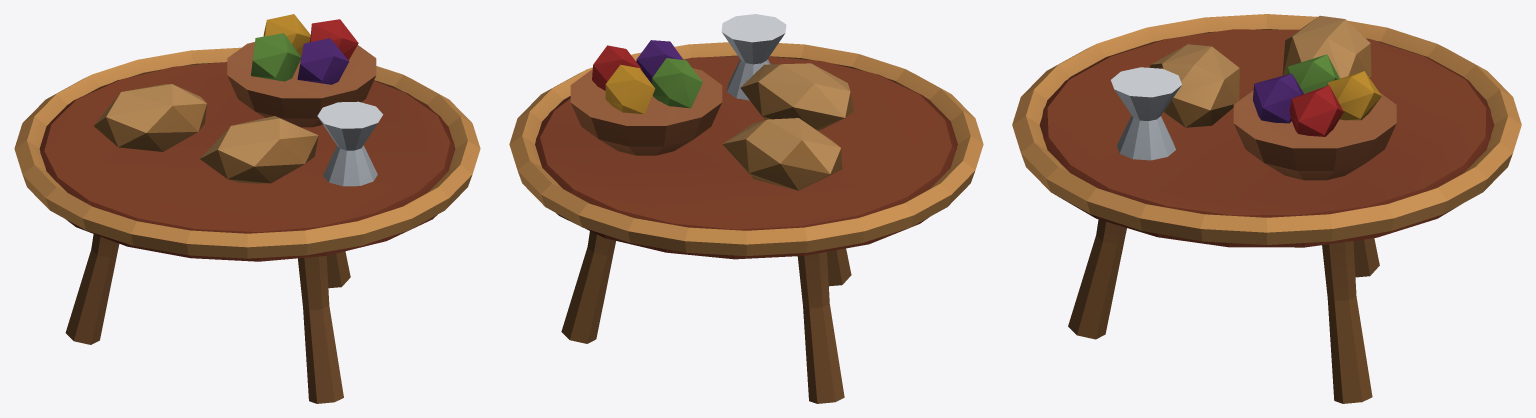
3 renders of one model, left to right at view 1: azimuth 30°, elevation 25°; view 2: azimuth 150°, elevation 25°; view 3: azimuth 270°, elevation 25°, orthographic. The views are drawn at different scales.
Parts seen in each view (by area): view 1: base; view 2: base; view 3: base.
Boxes of the visible parts, x1=… form: base: x1=14, y1=14, x2=480, y2=403; base: x1=509, y1=14, x2=983, y2=403; base: x1=1012, y1=14, x2=1521, y2=403.
Bounding box in the file's own units: 0.4228 × 0.2795 × 0.4228.
